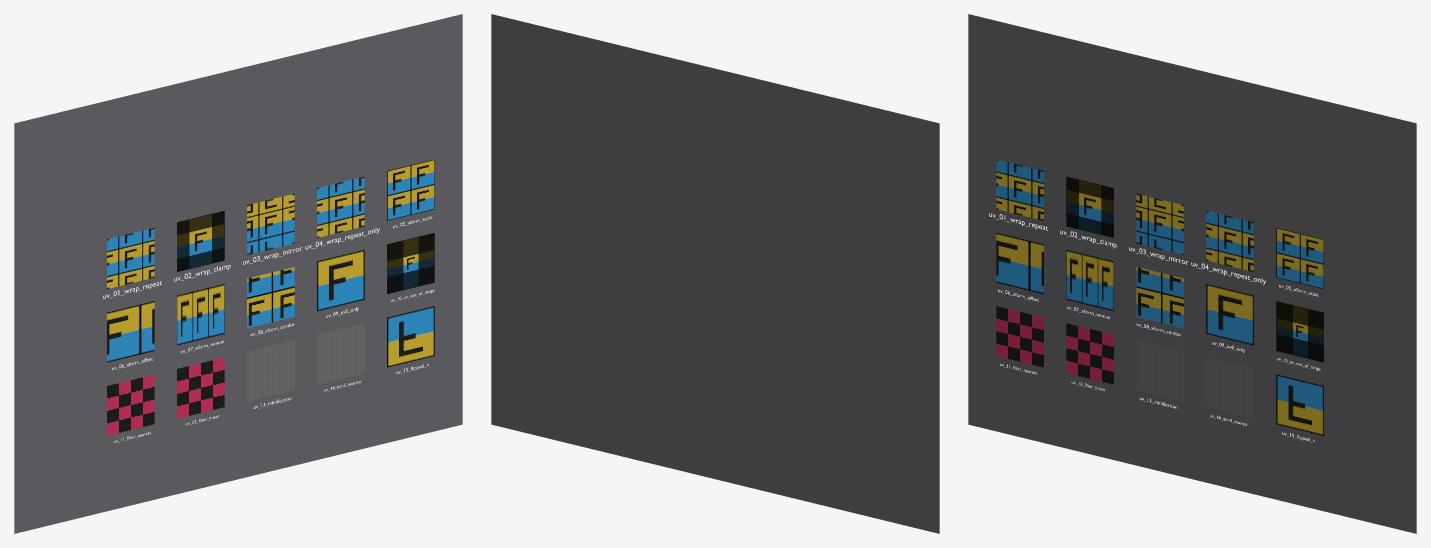
The model's file is grid_uvs.glb.
The picture shows the model from 3 angles, left to right: view 1: azimuth 30°, elevation 25°; view 2: azimuth 150°, elevation 25°; view 3: azimuth 330°, elevation 25°; orthographic projection.
Visible parts, largest first — view 1: backdrop_uvs, uv_13_minification, uv_05_xform_scale, uv_07_xform_nonuni, uv_12_filter_linear, uv_02_wrap_clamp, uv_04_wrap_repeat_only, uv_06_xform_offset, uv_08_xform_combo, uv_11_filter_nearest, uv_14_minification_nearest, uv_15_flipped_v (+4 smaller); view 2: backdrop_uvs; view 3: backdrop_uvs, uv_13_minification, uv_01_wrap_repeat, uv_09_uv0_only, uv_14_minification_nearest, uv_02_wrap_clamp, uv_04_wrap_repeat_only, uv_08_xform_combo, uv_10_uv_out_of_range, uv_11_filter_nearest, uv_12_filter_linear, uv_15_flipped_v (+4 smaller).
Part boxes in pixels (bbox=[...]): backdrop_uvs: bbox=[14, 14, 462, 533]; uv_13_minification: bbox=[247, 340, 294, 401]; uv_05_xform_scale: bbox=[387, 159, 434, 220]; uv_07_xform_nonuni: bbox=[177, 284, 224, 345]; uv_12_filter_linear: bbox=[177, 357, 224, 418]; uv_02_wrap_clamp: bbox=[177, 210, 224, 271]; uv_04_wrap_repeat_only: bbox=[317, 176, 364, 237]; uv_06_xform_offset: bbox=[107, 301, 154, 362]; uv_08_xform_combo: bbox=[247, 267, 294, 328]; uv_11_filter_nearest: bbox=[107, 374, 154, 435]; uv_14_minification_nearest: bbox=[317, 323, 364, 384]; uv_15_flipped_v: bbox=[387, 306, 434, 367]; backdrop_uvs: bbox=[491, 14, 939, 533]; backdrop_uvs: bbox=[968, 14, 1416, 533]; uv_13_minification: bbox=[1136, 340, 1183, 401]; uv_01_wrap_repeat: bbox=[996, 159, 1043, 220]; uv_09_uv0_only: bbox=[1206, 284, 1253, 345]; uv_14_minification_nearest: bbox=[1206, 357, 1253, 418]; uv_02_wrap_clamp: bbox=[1066, 176, 1113, 237]; uv_04_wrap_repeat_only: bbox=[1206, 210, 1253, 271]; uv_08_xform_combo: bbox=[1136, 267, 1183, 328]; uv_10_uv_out_of_range: bbox=[1276, 301, 1323, 362]; uv_11_filter_nearest: bbox=[996, 306, 1043, 367]; uv_12_filter_linear: bbox=[1066, 323, 1113, 384]; uv_15_flipped_v: bbox=[1276, 374, 1323, 435].
Bounding box in the file's own units: 16 × 14 × 2.1.
17 materials, 15 textured.
